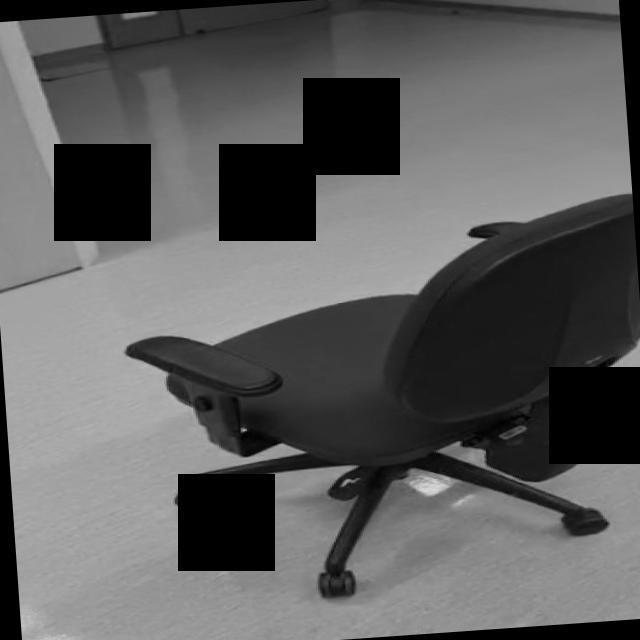chair: (117, 191, 640, 609)
